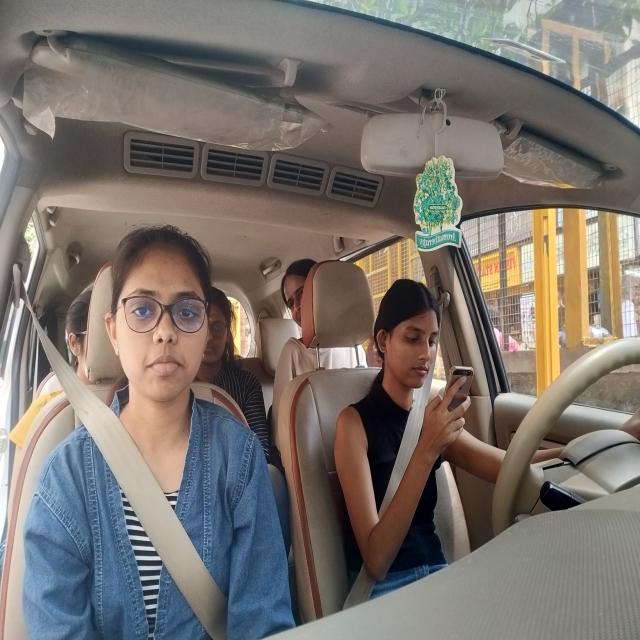mobile: (442, 362, 476, 433)
person: (104, 214, 213, 414), (372, 274, 444, 389), (64, 288, 99, 398), (207, 290, 245, 376), (281, 258, 315, 332)
